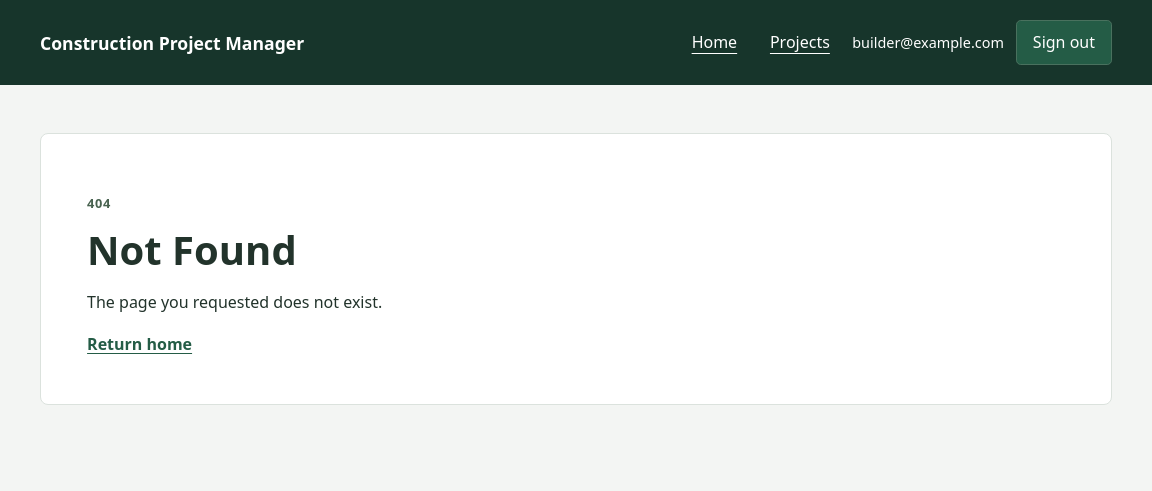
Test: application shell and authentication › renders Not Found for an unknown route and navigates home
Expected: the heading "Not Found" is shown, left=87, top=222, right=297, bottom=277
Expected: the header is shown, left=0, top=0, right=1151, bottom=85
Click the link "Return home": (140, 344) left=87, top=333, right=192, bottom=355
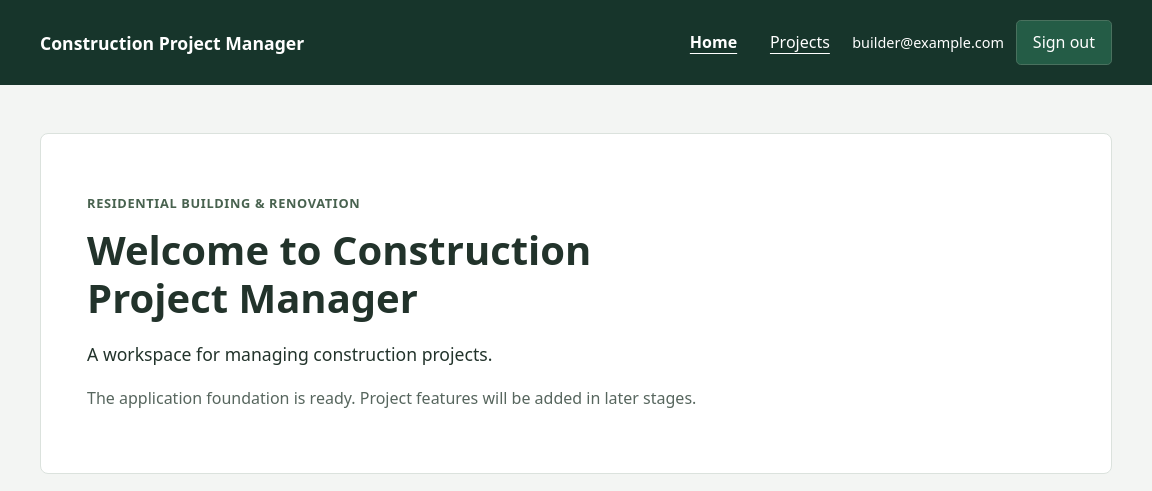
Now the heading "Welcome to Construction Project Manager" is shown, box left=87, top=226, right=636, bottom=322
